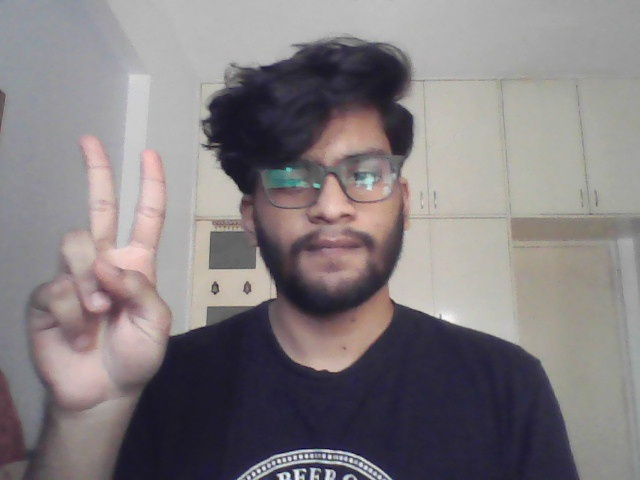Peace: (21, 133, 180, 409)
